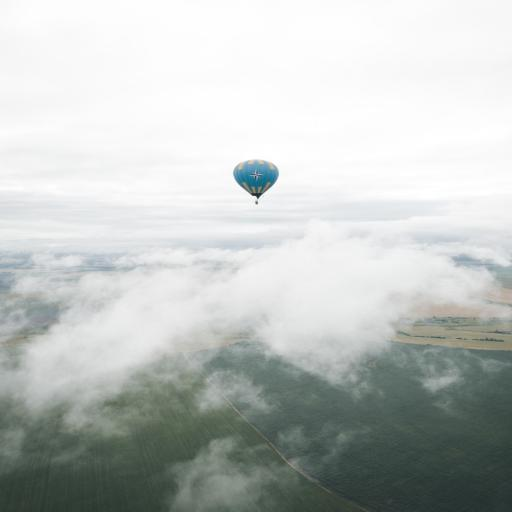hot air ballon: (226, 156, 286, 205)
